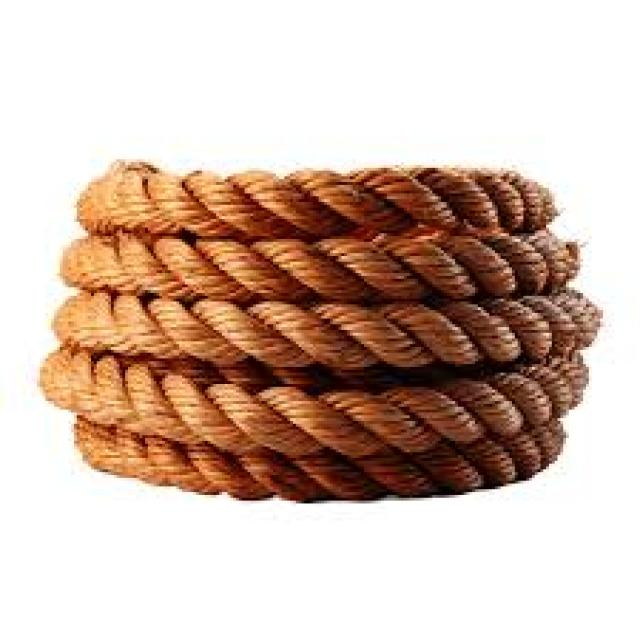Rope: (39, 141, 612, 516)
